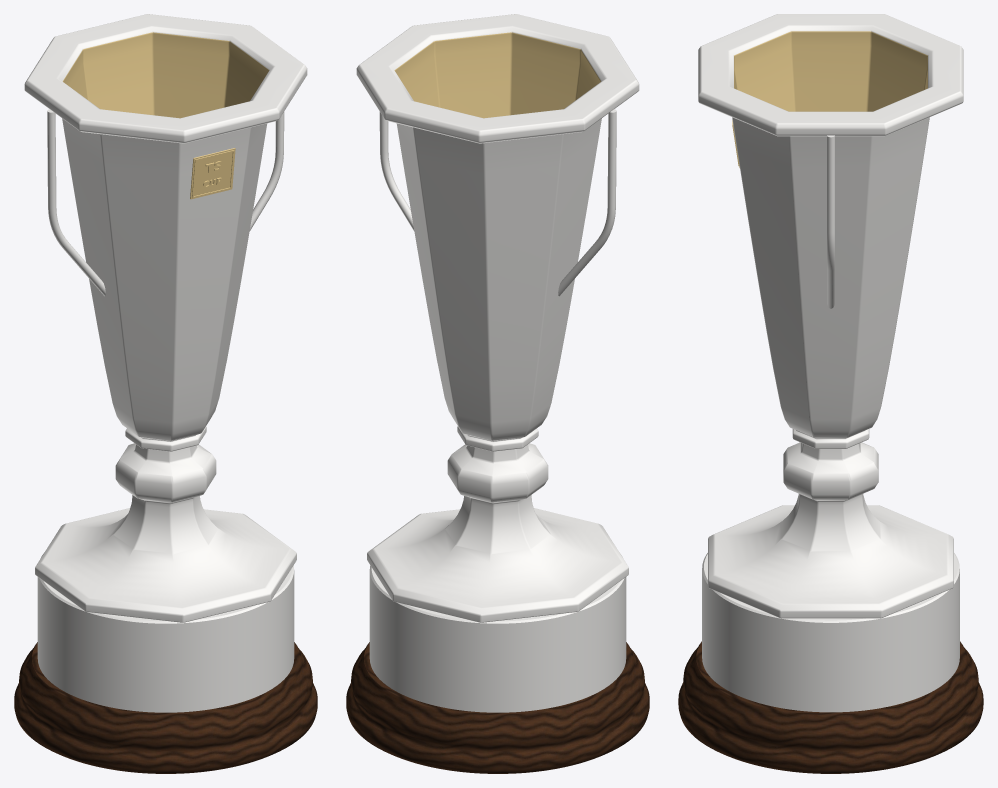
Rendered from trophy.glb.
3 views of the same model, side by side, from view 1: azimuth 30°, elevation 25°; view 2: azimuth 150°, elevation 25°; view 3: azimuth 270°, elevation 25° (orthographic).
Visible parts, largest first — view 1: Trophy; view 2: Trophy; view 3: Trophy.
Boxes of the visible parts, left/top/right/bottom form: Trophy: left=14, top=14, right=317, bottom=773; Trophy: left=346, top=14, right=649, bottom=773; Trophy: left=678, top=14, right=983, bottom=773.
Size of the model in its own units: 0.258 by 0.6 by 0.258.
Materials: 4 (1 with a texture image).
